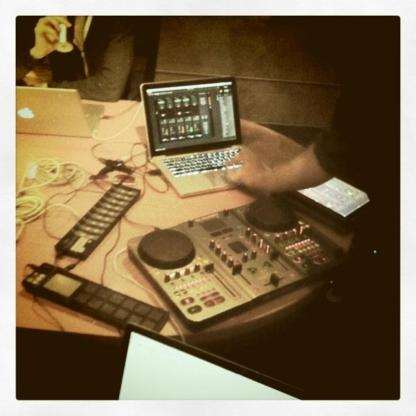board: (140, 76, 272, 198), (16, 86, 104, 138)
